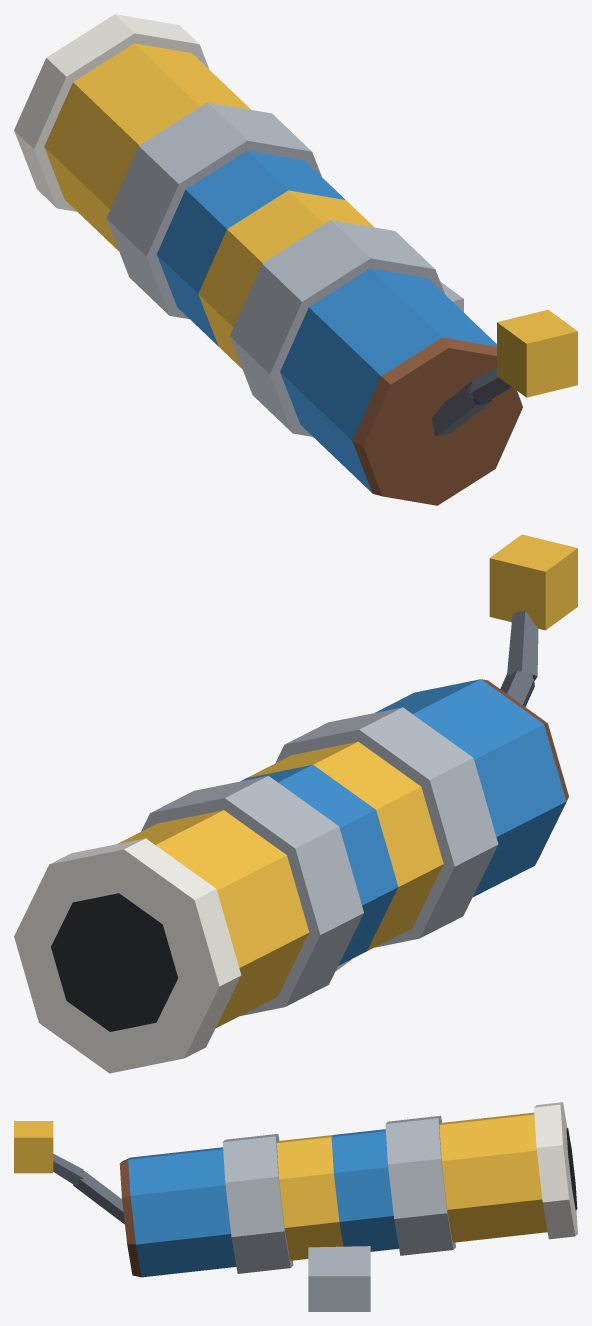
The model's file is G_Firework_2.fbx.
3 renders of one model, top to bottom at view 1: azimuth 30°, elevation 25°; view 2: azimuth 150°, elevation 25°; view 3: azimuth 270°, elevation 25°, orthographic. The views are drawn at different scales.
Visible parts, largest first — view 1: G_Firework_2; view 2: G_Firework_2; view 3: G_Firework_2.
Boxes of the visible parts, x1,y1,x2,y2 form: G_Firework_2: [14, 14, 577, 505]; G_Firework_2: [14, 534, 577, 1073]; G_Firework_2: [14, 1102, 577, 1311].
Bounding box in the file's own units: 0.2911 × 0.2851 × 0.8547.
